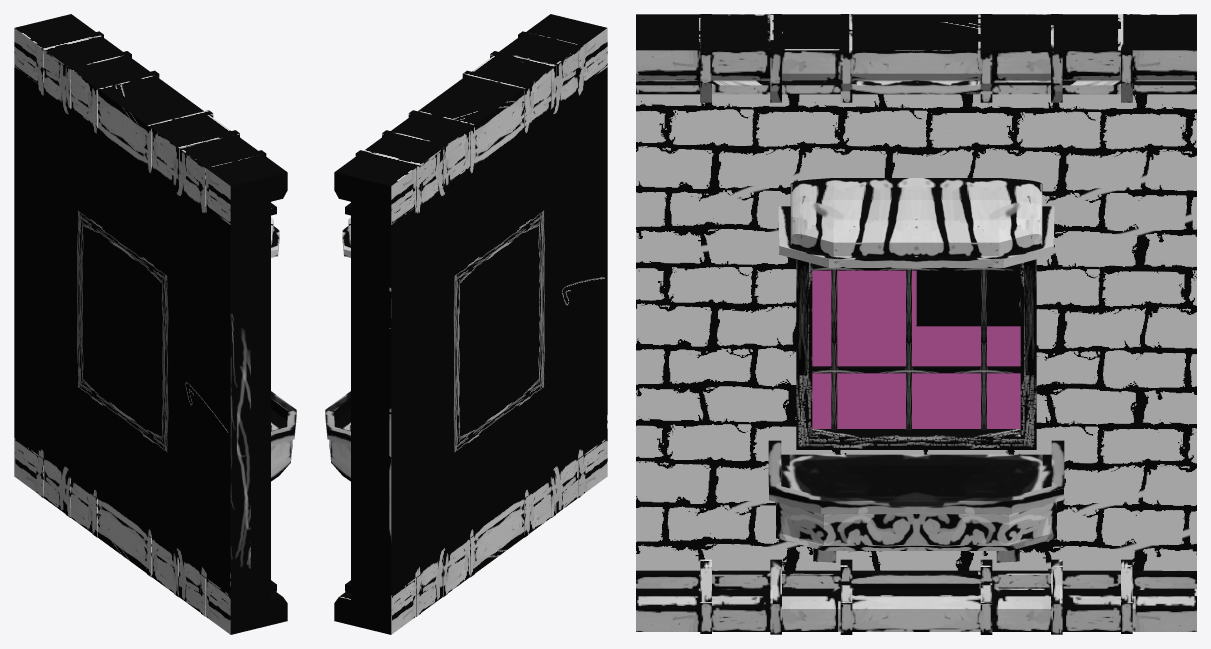
Rendered from houseUnit.fbx.
3 renders of one model, left to right at view 1: azimuth 30°, elevation 25°; view 2: azimuth 150°, elevation 25°; view 3: azimuth 270°, elevation 25°, orthographic. The views are drawn at different scales.
Parts seen in each view (by area): view 1: Cube, Cube.001; view 2: Cube, Cube.001; view 3: Cube, Cube.001, Cube.002, Cube.003, Cube.008.
Part boxes in pixels (x1,y1,x2,y2): Cube: (14,14,287,634); Cube.001: (271,391,296,481); Cube: (334,14,607,634); Cube.001: (325,391,350,481); Cube: (636,14,1196,634); Cube.001: (768,440,1064,562); Cube.002: (778,178,1054,268); Cube.003: (812,263,1020,430); Cube.008: (797,259,1035,375).
Bounding box in the file's own units: 2.15 × 6.67 × 5.83.
